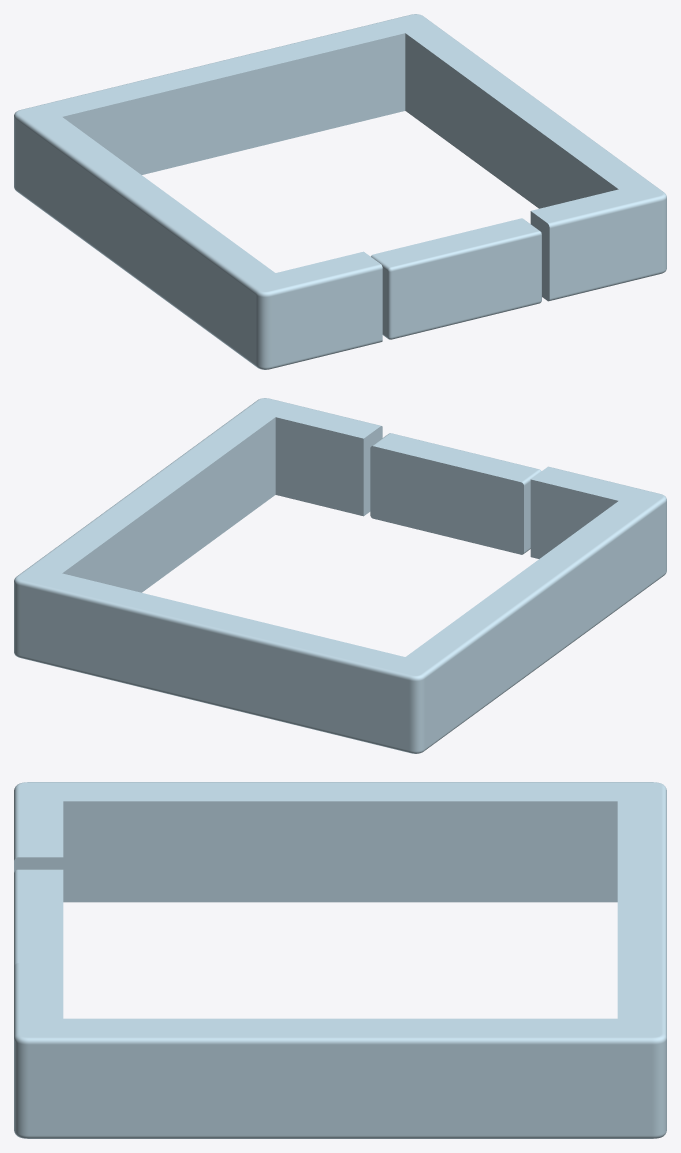
Rendered from 2910 - 2025 Bumpers.fbx.
The picture shows the model from 3 angles, top to bottom: view 1: azimuth 30°, elevation 25°; view 2: azimuth 150°, elevation 25°; view 3: azimuth 270°, elevation 25°; orthographic projection. The views are drawn at different scales.
Parts seen in each view (by area): view 1: Part 2, Part 1; view 2: Part 2, Part 1; view 3: Part 2, Part 1.
Boxes of the visible parts, <box> form: Part 2: <box>14,14,666,369</box>; Part 1: <box>371,218,541,339</box>; Part 2: <box>14,398,666,753</box>; Part 1: <box>370,433,541,554</box>; Part 2: <box>14,782,666,1138</box>; Part 1: <box>14,869,63,966</box>.
Bounding box in the file's own units: 78.74 × 14.29 × 83.82.
